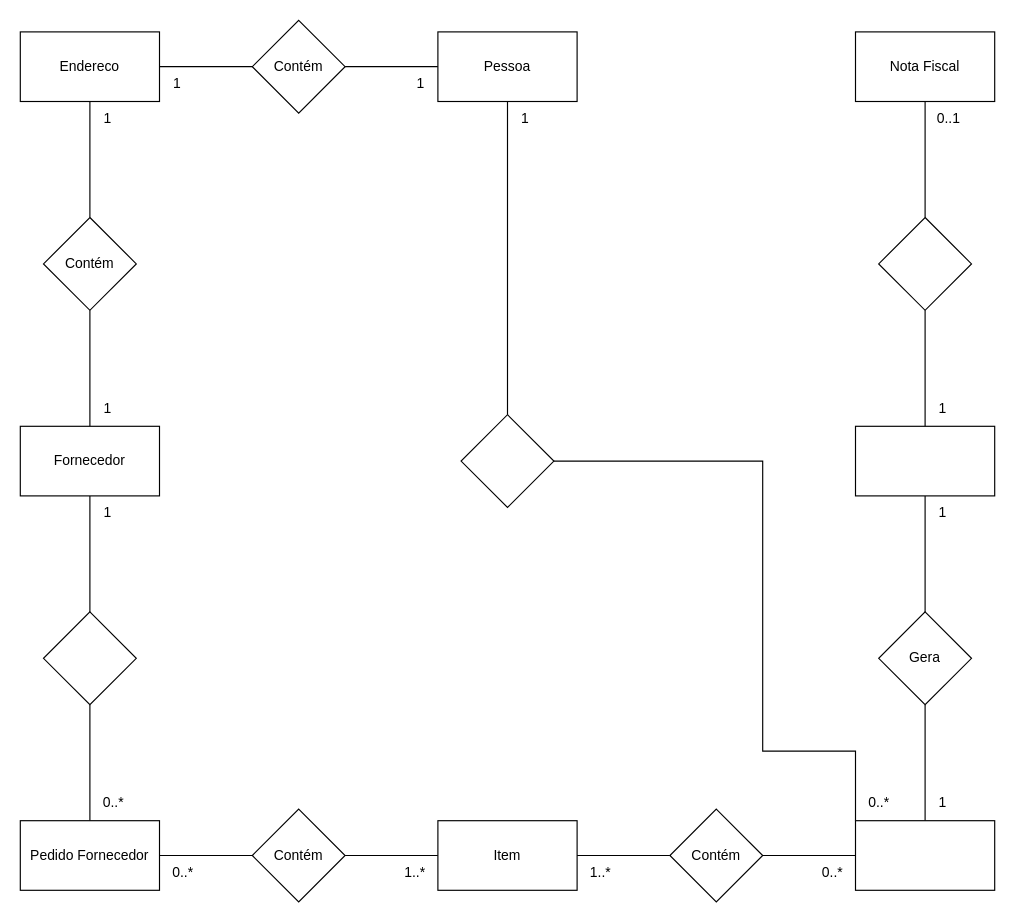
Image size: 1015x922. Some labels were removed from this diagram. The centre of each missing label's shape, as x and y in pixels:
Emite: the point at 924,263
Orcaçamento: the point at 924,855
Pedifo: the point at 924,460
Recebe: the point at 89,658
Solicita: the point at 507,460
